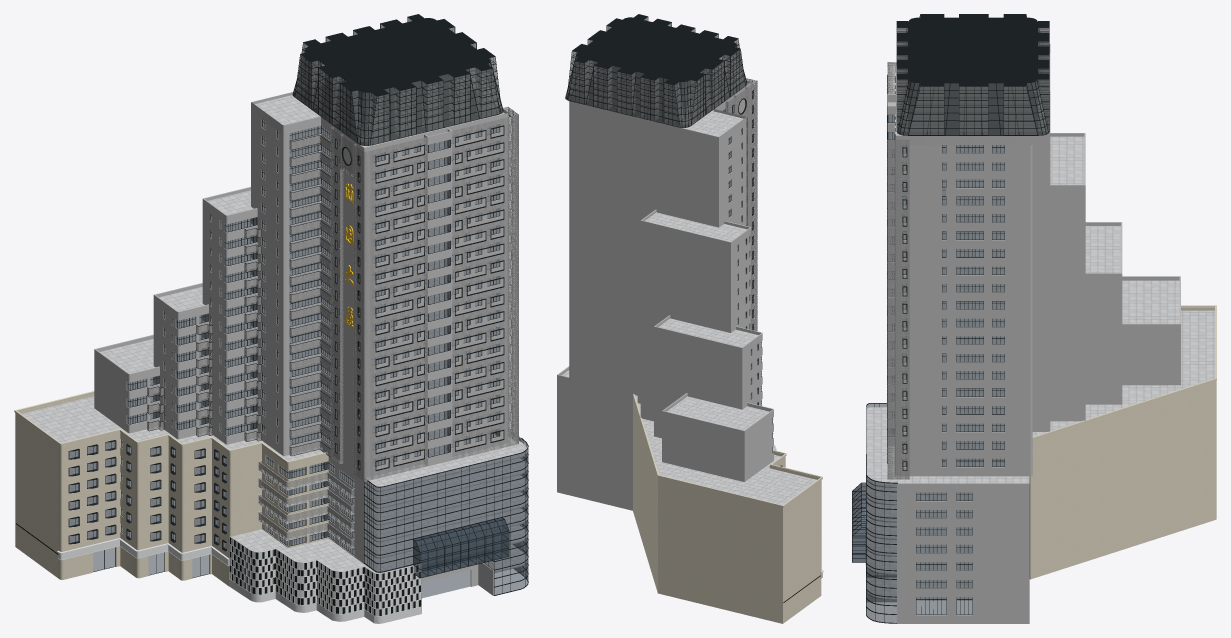
Rendered from gzl_suiyuandasha.FBX.
The picture shows the model from 3 angles, left to right: view 1: azimuth 30°, elevation 25°; view 2: azimuth 150°, elevation 25°; view 3: azimuth 270°, elevation 25°; orthographic projection. The views are drawn at different scales.
Visible parts, largest first — view 1: suiyuandasha; view 2: suiyuandasha; view 3: suiyuandasha.
Boxes of the visible parts, <box> form: suiyuandasha: <box>14,14,528,623</box>; suiyuandasha: <box>557,14,823,623</box>; suiyuandasha: <box>852,14,1216,623</box>.
Size of the model in its own units: 65396 by 90681 by 56632.
